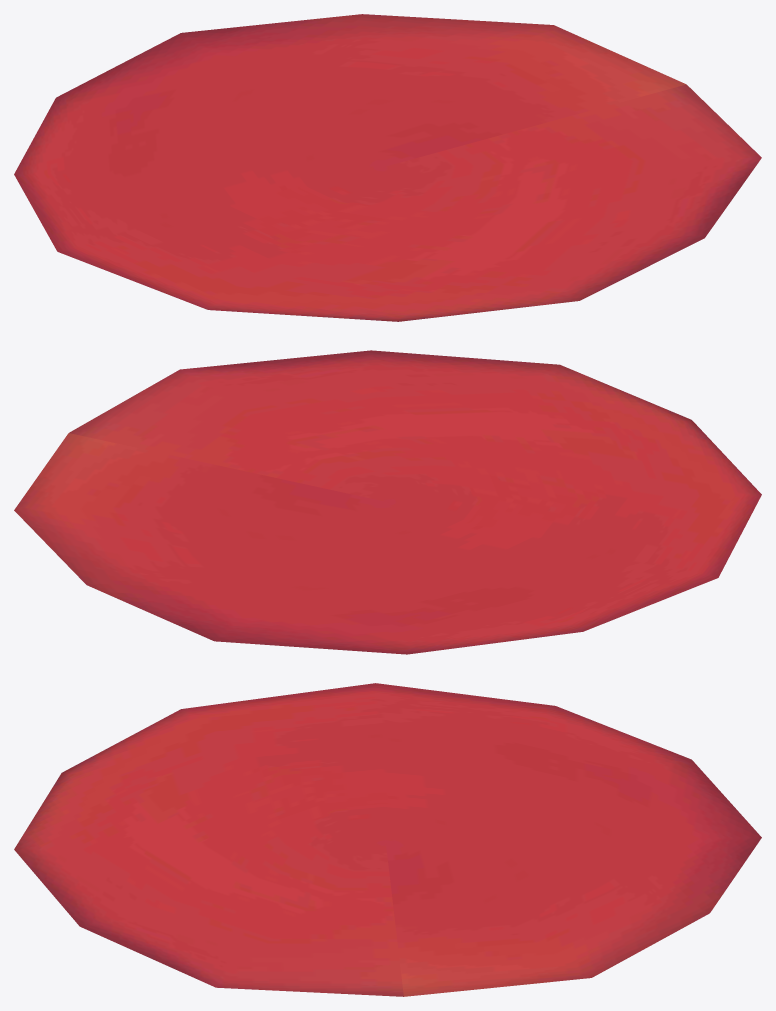
The model's file is plan.fbx.
3 renders of one model, top to bottom at view 1: azimuth 30°, elevation 25°; view 2: azimuth 150°, elevation 25°; view 3: azimuth 270°, elevation 25°, orthographic.
Visible parts, largest first — view 1: plan; view 2: plan; view 3: plan.
Part boxes in pixels (x1,y1,x2,y2): plan: (14,14,761,321); plan: (14,350,761,654); plan: (14,683,761,996).
Bounding box in the file's own units: 2.05 × 7.59e-07 × 2.07.
Materials: 1 (1 with a texture image).
